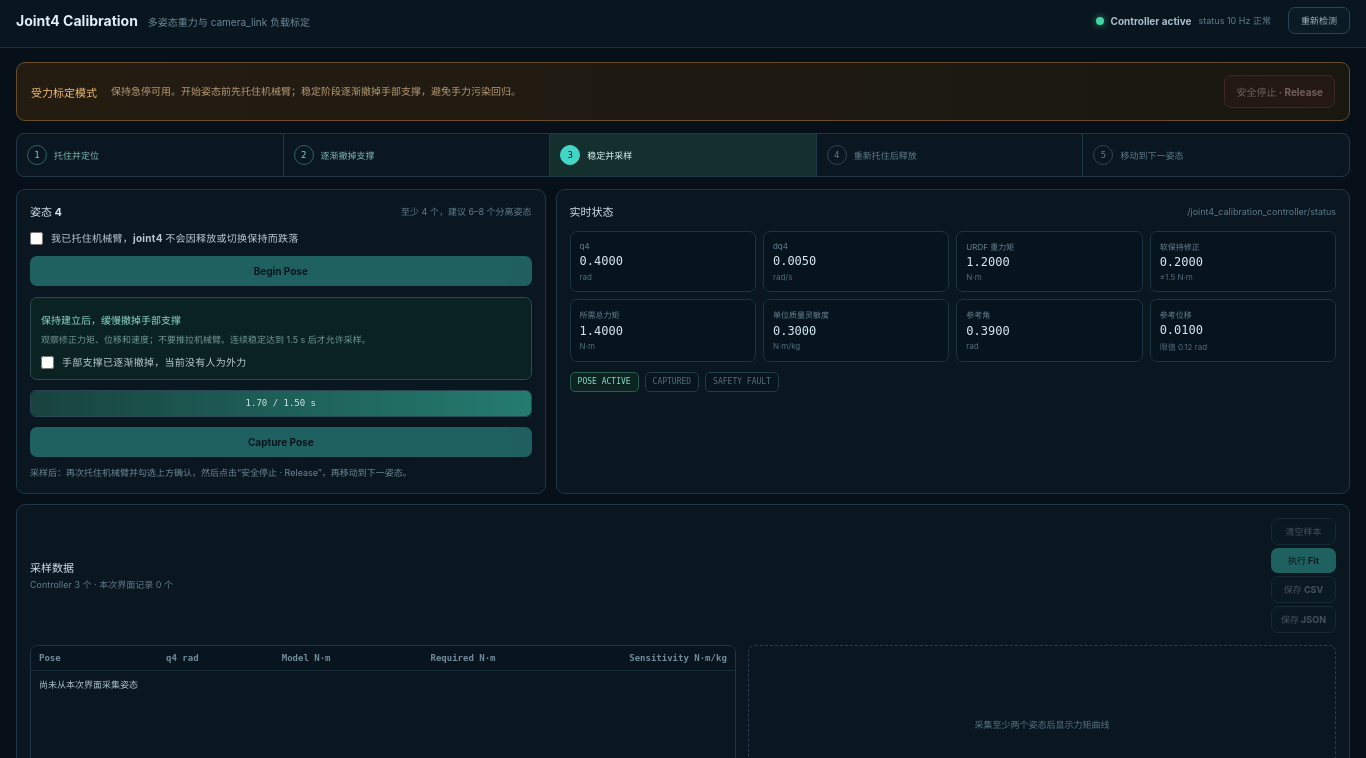
Test: Joint4CalibrationPage › subscribes status, gates capture on hands clear, records a sample and shows fit
Expected: the button "Capture Pose" is disabled, [30, 427, 532, 457]
Click the checkbox labelled "手部支撑已逐渐撤掉，当前没有人为外力".
click(48, 362)  # box [41, 356, 54, 368]
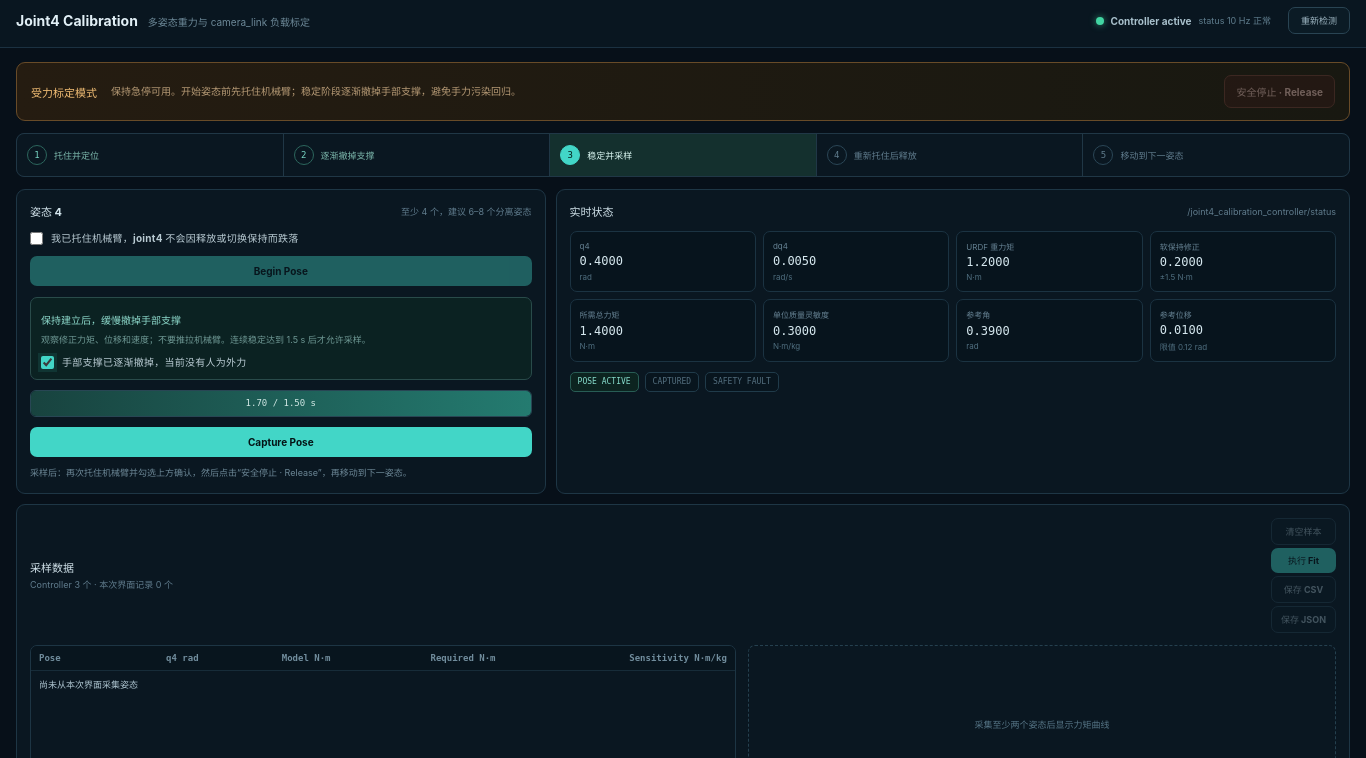
Click the button "Capture Pose".
click(281, 442)  # box [30, 427, 532, 457]
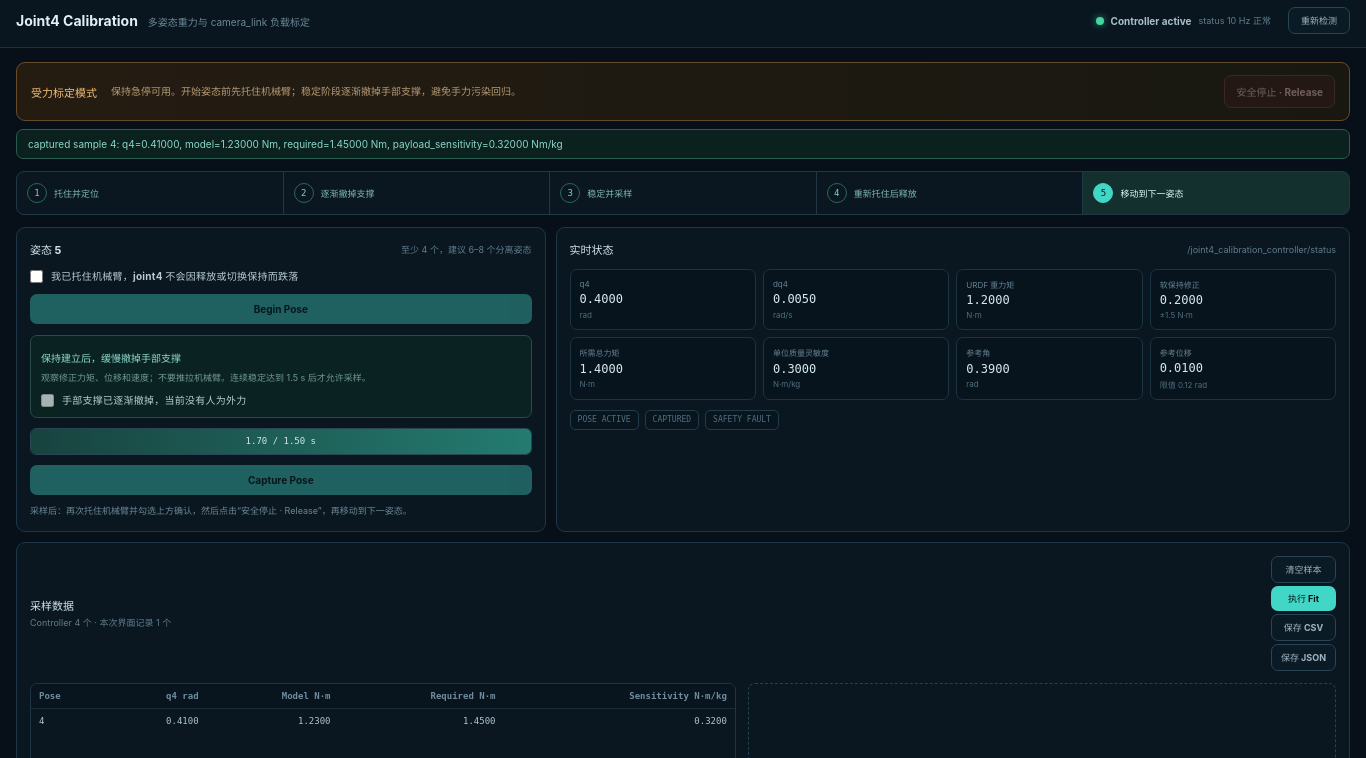
Result: the text "0.4100" is shown at [108, 708, 207, 732]
Click the button "执行 Fit".
click(1303, 598)  # box [1271, 586, 1336, 610]
(page scrolled)
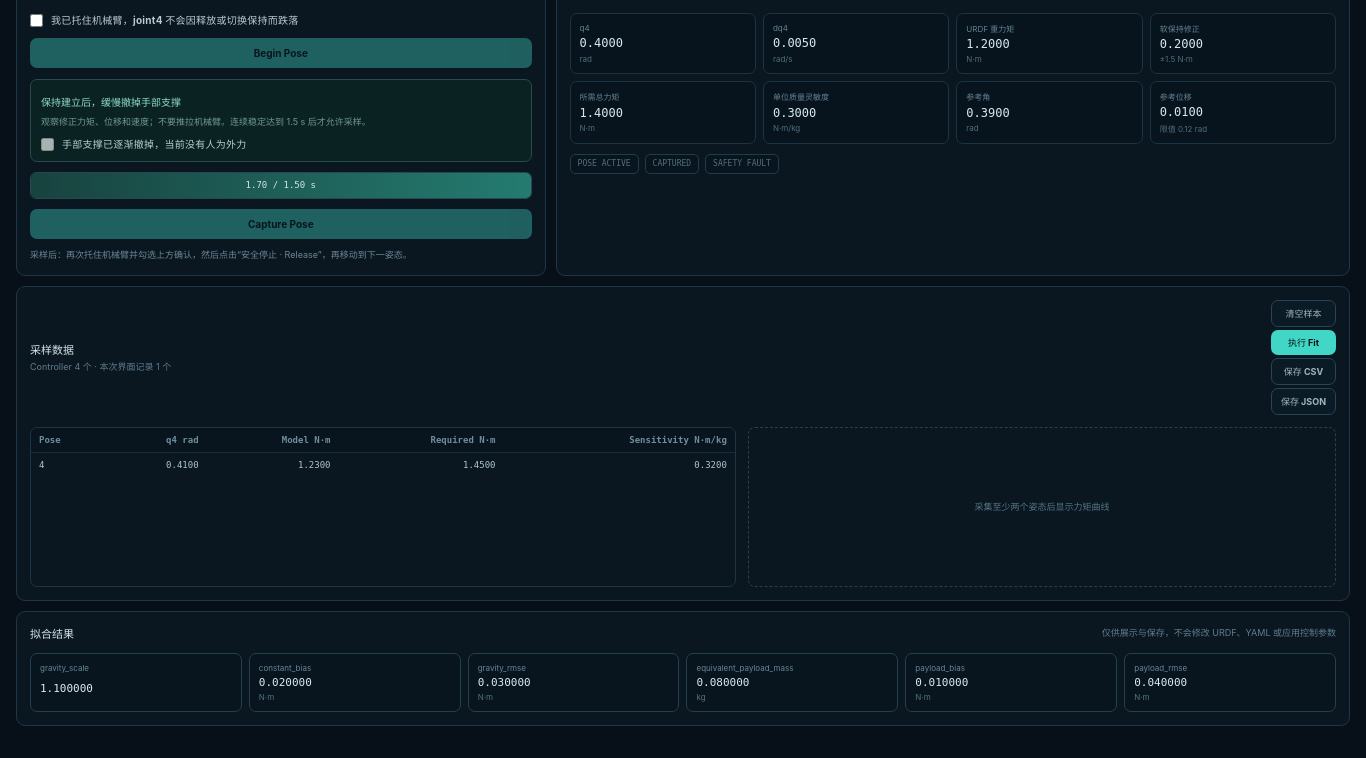
Expected: the text "仅供展示与保存，不会修改 URDF、YAML 或应用控制参数" is shown, [1102, 626, 1336, 639]
Result: the text "1.100000" is shown at [40, 682, 93, 695]
Result: the text "0.080000" is shown at [696, 676, 750, 688]
